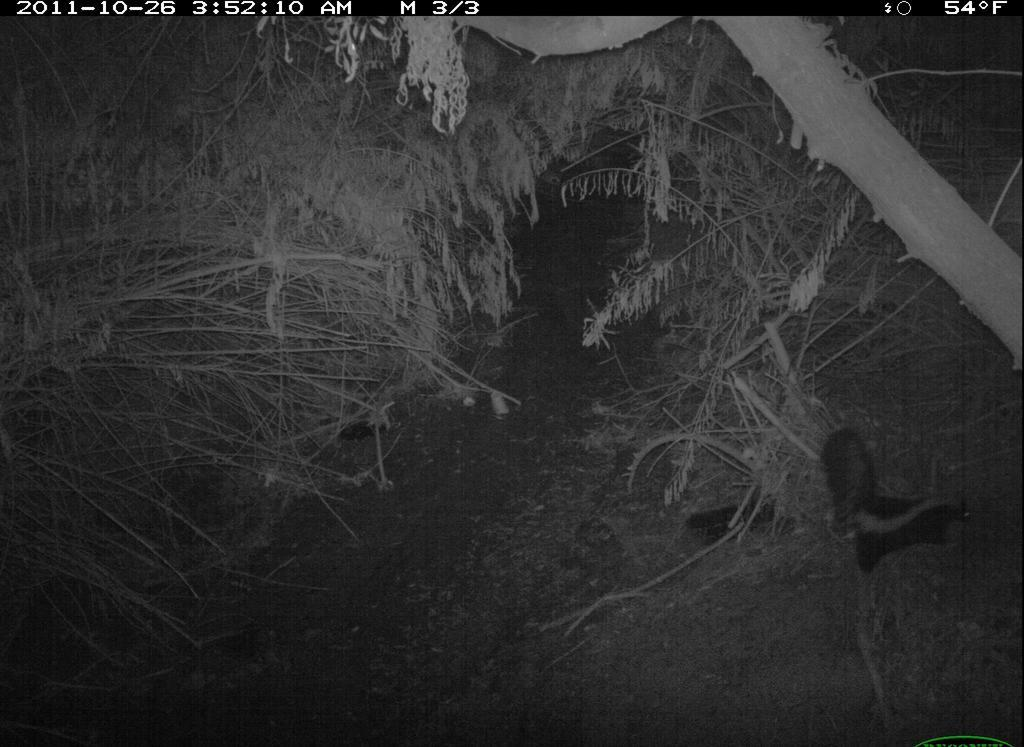skunk: (818, 423, 980, 578)
